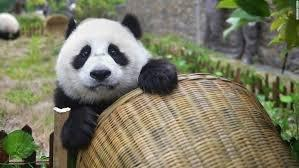bear: (55, 13, 179, 150)
